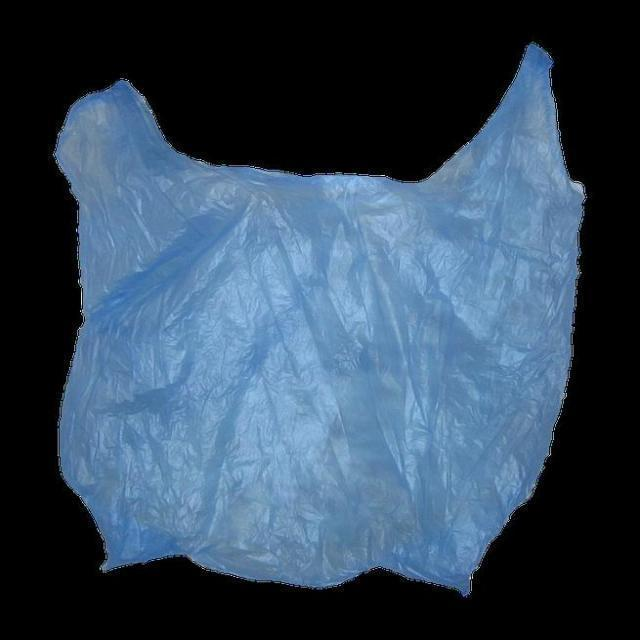Plastic_Bag: (32, 54, 601, 596)
